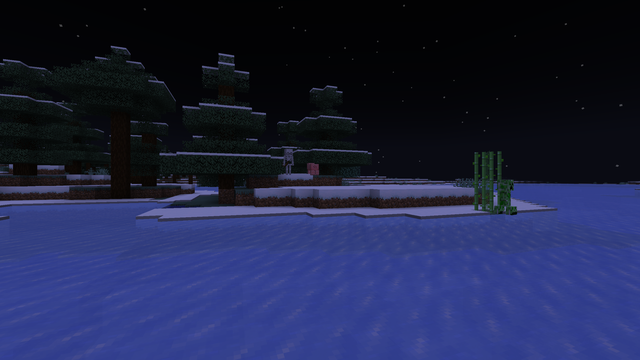cochons: (305, 163, 319, 174)
creepers: (494, 178, 515, 214)
squelettes: (283, 148, 292, 174)
